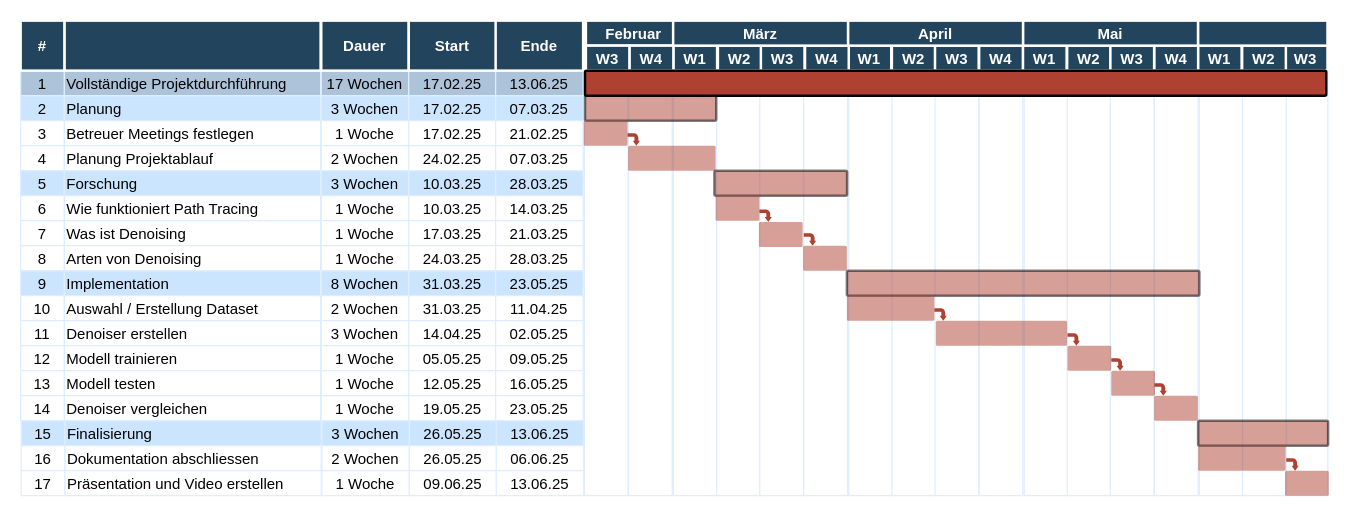
Image size: 1349x516. Some labels were removed from this diagram. The shapes that lost their labels are listed below. From the top down, each one's centre as x and y in pixels, then its label:
pixel 191 45: Aufgabe
pixel 1262 32: Juni
